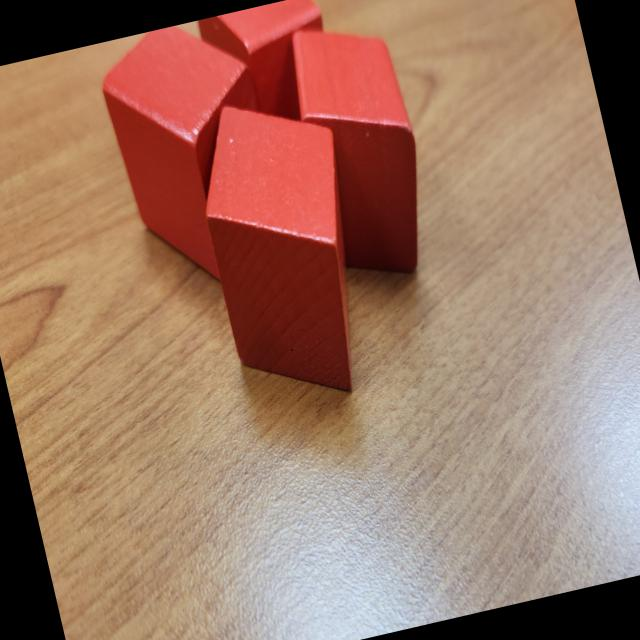red: (180, 81, 390, 418), (92, 14, 294, 298), (268, 5, 446, 292), (193, 0, 342, 136)
